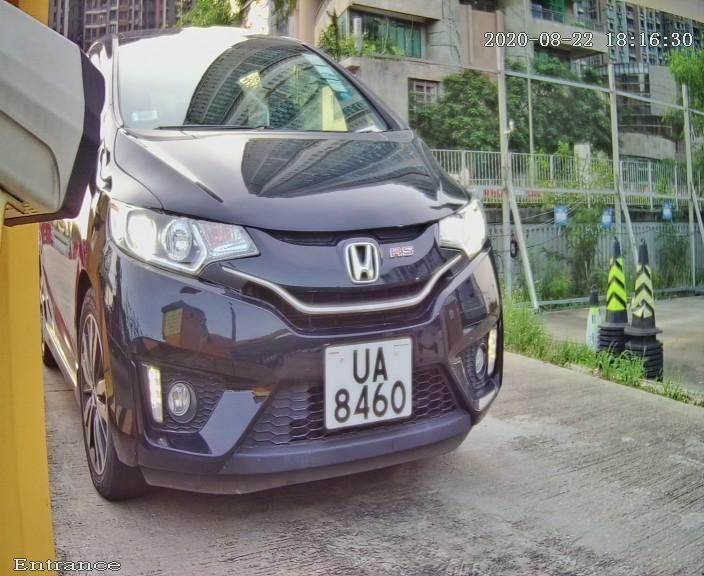License Plate: (318, 325, 419, 443)
